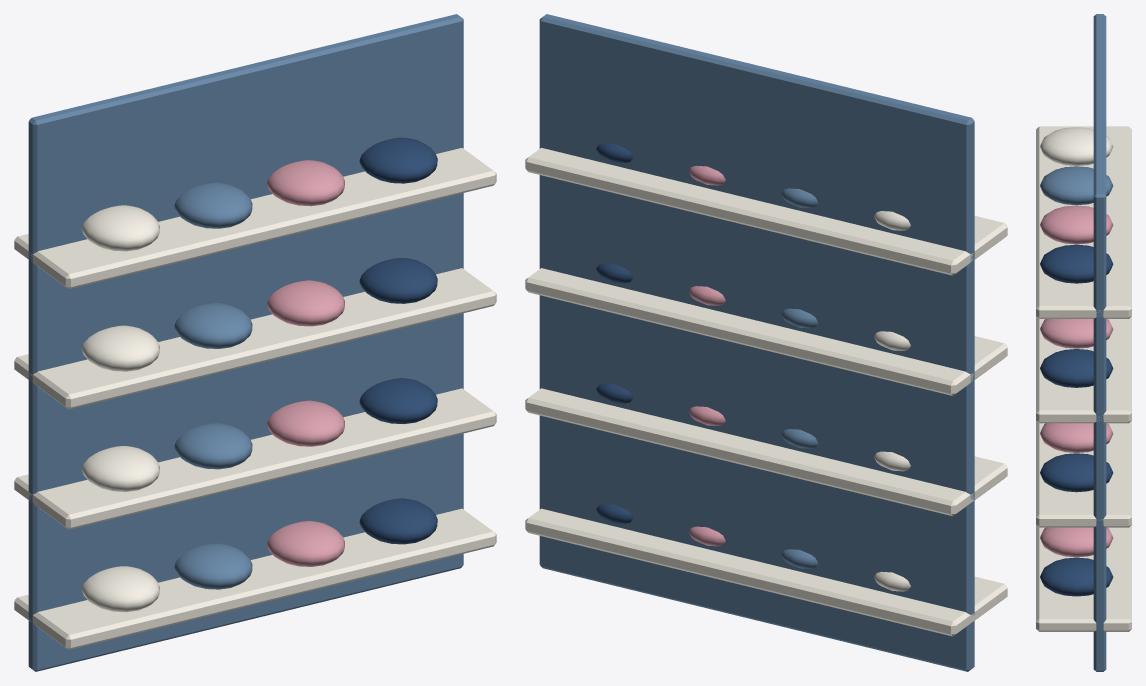
The model's file is mall_02.glb.
3 views of the same model, side by side, from view 1: azimuth 30°, elevation 25°; view 2: azimuth 150°, elevation 25°; view 3: azimuth 270°, elevation 25° (orthographic). The views are drawn at different scales.
Visible parts, largest first — view 1: ShoeDisplayBack, Shelf (×4), Shoe (×16); view 2: ShoeDisplayBack, Shelf (×4); view 3: Shelf (×4), Shoe (×10), ShoeDisplayBack.
Boxes of the visible parts, <box> form: ShoeDisplayBack: <box>28,14,463,671</box>; Shelf (×4): <box>14,148,496,649</box>; Shoe (×16): <box>81,137,437,612</box>; ShoeDisplayBack: <box>539,14,974,671</box>; Shelf (×4): <box>525,148,1007,636</box>; Shelf (×4): <box>1036,126,1131,631</box>; Shoe (×10): <box>1040,127,1113,596</box>; ShoeDisplayBack: <box>1093,14,1106,671</box>.
Size of the model in its own units: 1.35 by 1.65 by 0.3.
